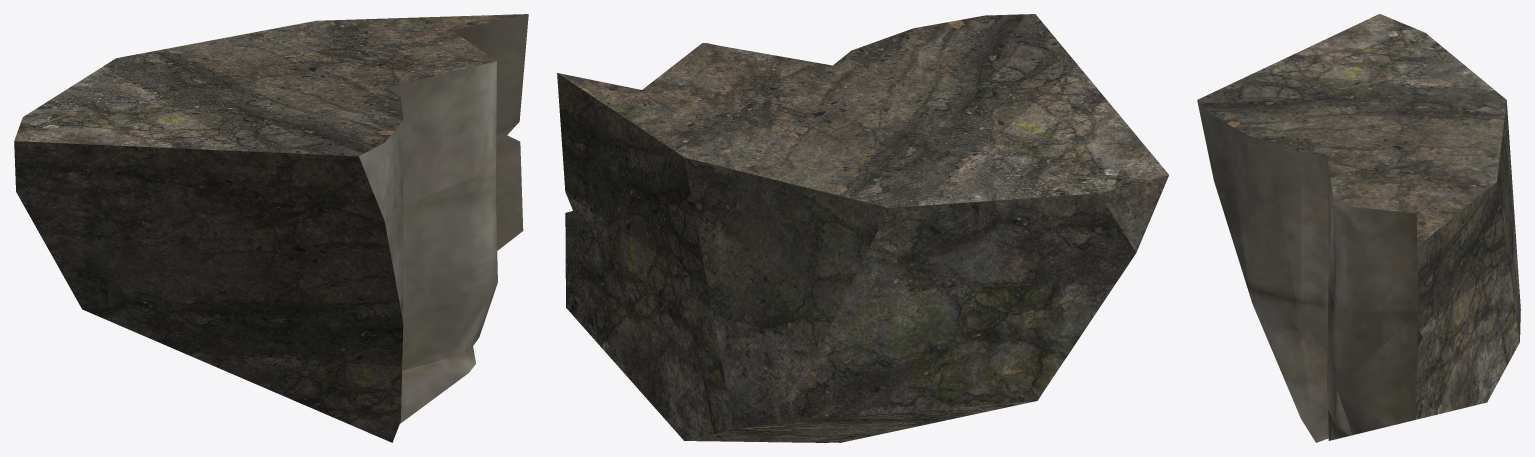
File: ColumnDamage08_22.fbx
3 renders of one model, left to right at view 1: azimuth 30°, elevation 25°; view 2: azimuth 150°, elevation 25°; view 3: azimuth 270°, elevation 25°, orthographic. The views are drawn at different scales.
Visible parts, largest first — view 1: ColumnDamage08_DM.022; view 2: ColumnDamage08_DM.022; view 3: ColumnDamage08_DM.022.
Part boxes in pixels (left/top/right/bottom): ColumnDamage08_DM.022: left=14, top=14, right=528, bottom=442; ColumnDamage08_DM.022: left=557, top=14, right=1168, bottom=442; ColumnDamage08_DM.022: left=1197, top=14, right=1520, bottom=442.
Size of the model in its own units: 179 by 117 by 114.
2 materials, 2 textured.
